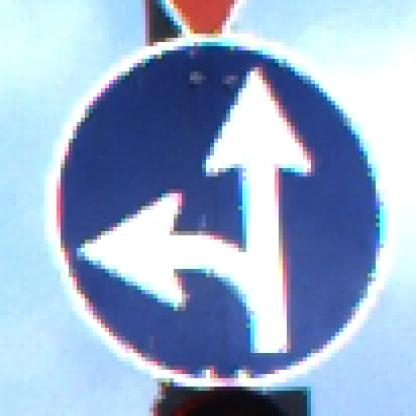Straight or Left: (37, 35, 381, 384)
